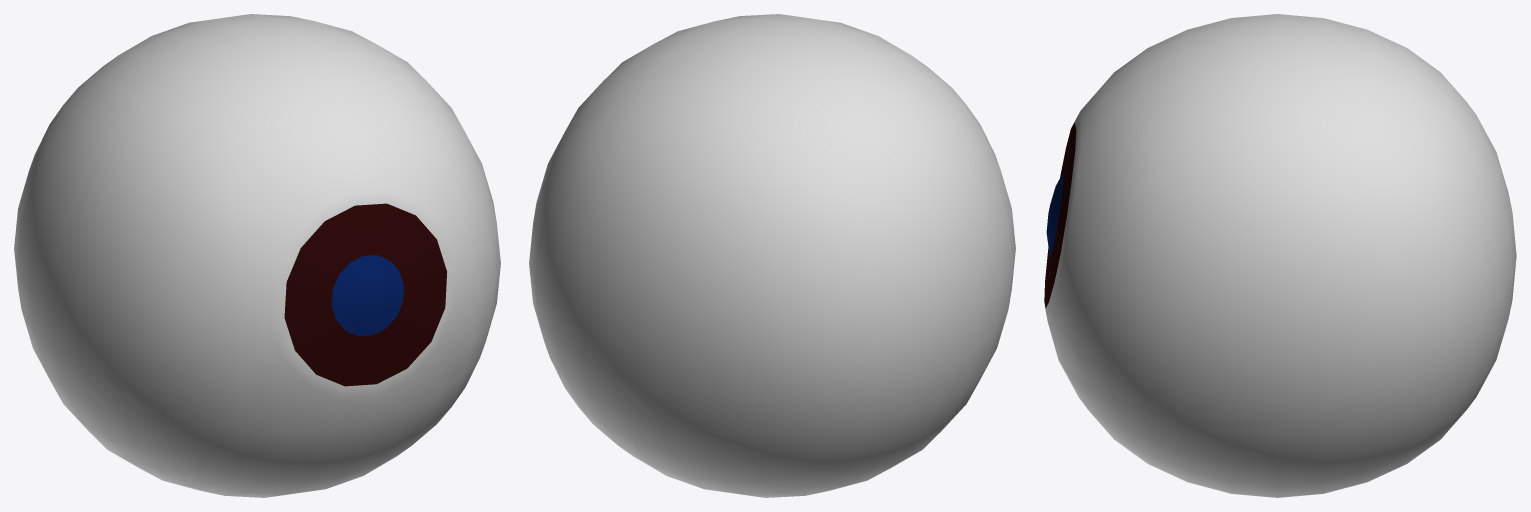
Rendered from eye1.glb.
3 renders of one model, left to right at view 1: azimuth 30°, elevation 25°; view 2: azimuth 150°, elevation 25°; view 3: azimuth 270°, elevation 25°, orthographic.
Visible parts, largest first — view 1: Cube.003; view 2: Cube.003; view 3: Cube.003.
Boxes of the visible parts, x1,y1,x2,y2 form: Cube.003: (14,14,500,497); Cube.003: (529,14,1015,497); Cube.003: (1044,14,1516,497).
Bounding box in the file's own units: 0.4975 × 0.4975 × 0.4911.
